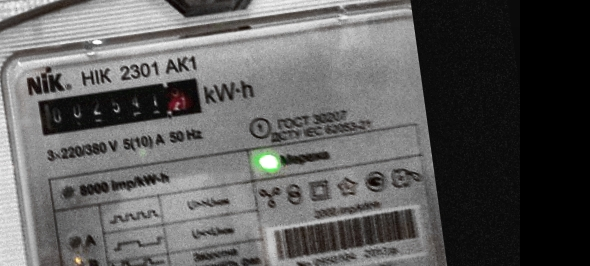0: (48, 102, 63, 124), (68, 97, 83, 119)
1: (147, 87, 160, 109)
2: (88, 95, 103, 117)
4: (128, 89, 142, 111)
5: (107, 92, 122, 115)
6: (170, 96, 183, 113)
screen: (26, 66, 214, 145)
